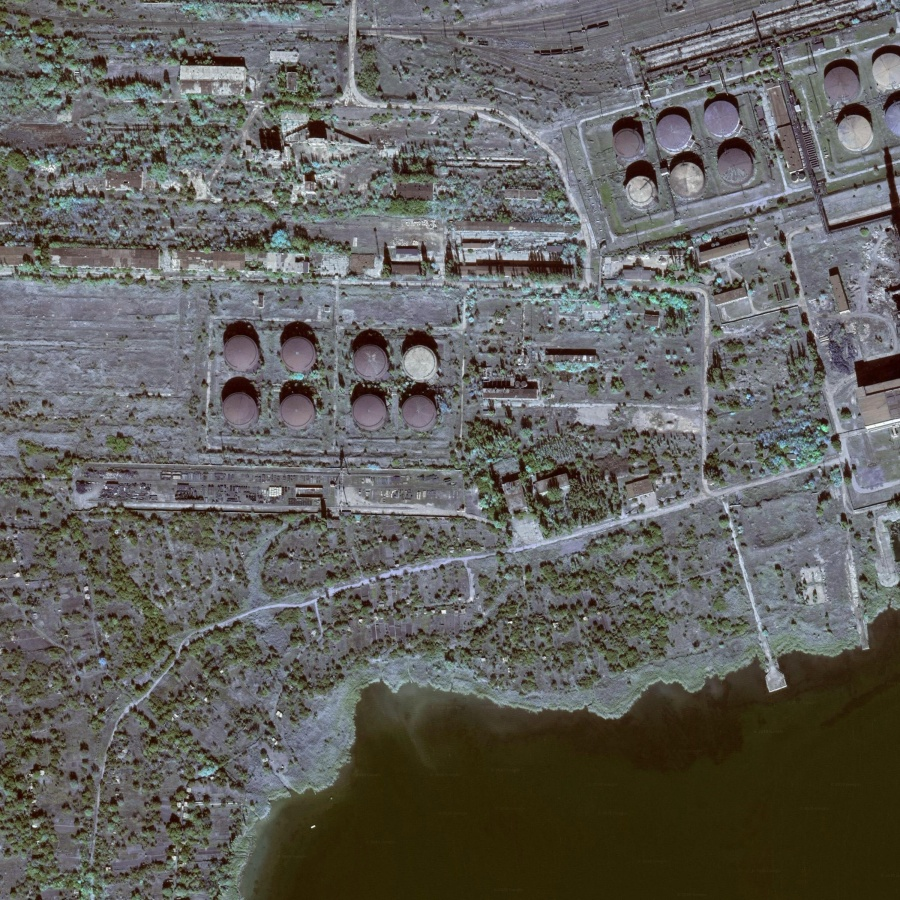PowerPlant: (188, 281, 458, 459), (574, 70, 782, 246)
